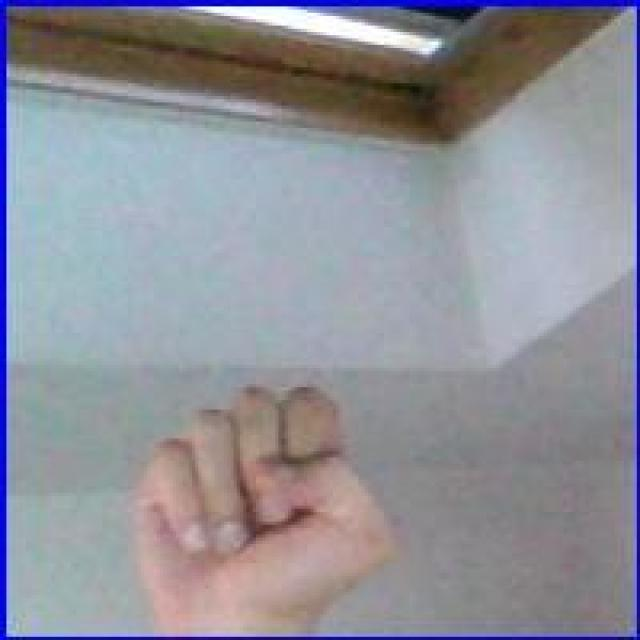S: (118, 374, 400, 628)
